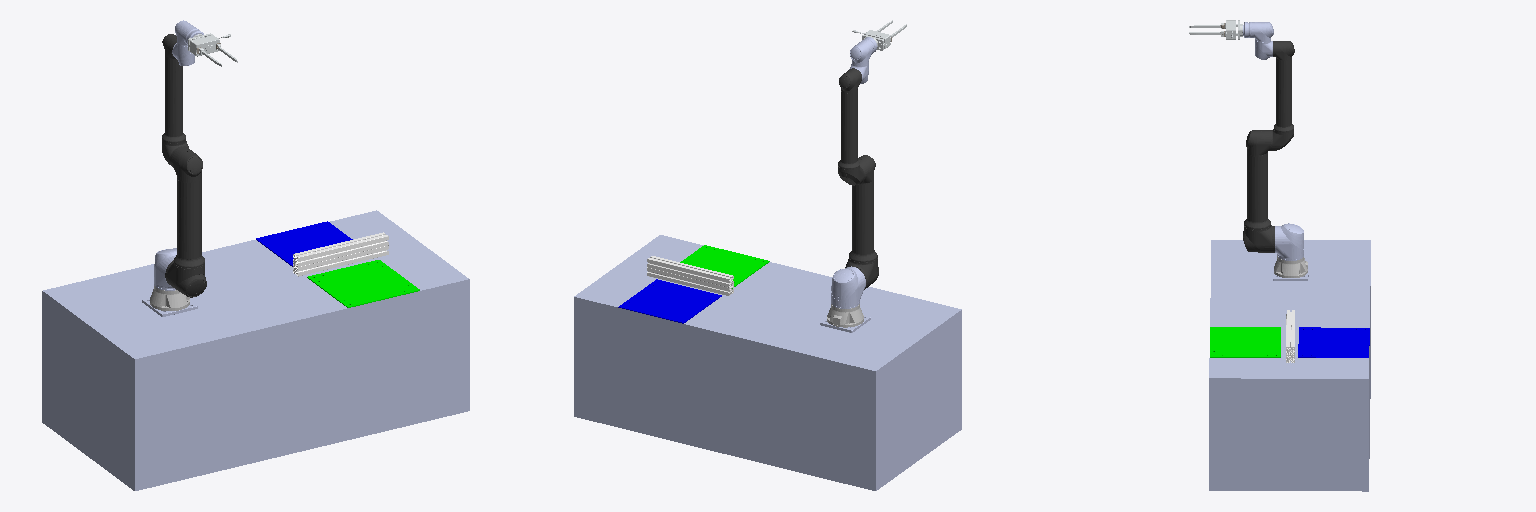
URDF robot description (keti_robot_description):
<?xml version="1.0" encoding="utf-8"?>
<!-- This URDF was automatically created by SolidWorks to URDF Exporter! Originally created by [author] ([email redacted]) 
     Commit Version: 1.6.0-4-g7f85cfe  Build Version: 1.6.7995.38578
     For more information, please see http://wiki.ros.org/sw_urdf_exporter -->
<robot
  name="keti_robot_description">
  <link
    name="base_link">
    <inertial>
      <origin
        xyz="-3.36085209448091E-05 0.000287133945830102 0.0438378188701482"
        rpy="0 0 0" />
      <mass
        value="2.2521398120105" />
      <inertia
        ixx="0.00610179258303705"
        ixy="5.05489141748032E-06"
        ixz="-2.06579698345411E-06"
        iyy="0.00603383821255677"
        iyz="-2.85749716627364E-06"
        izz="0.0086064928113372" />
    </inertial>
    <visual>
      <origin
        xyz="0 0 0"
        rpy="0 0 0" />
      <geometry>
        <mesh
          filename="package://keti_robot_description/meshes/base_link.STL" />
      </geometry>
      <material
        name="">
        <color
          rgba="0.8 0.8 0.8 1" />
      </material>
    </visual>
    <collision>
      <origin
        xyz="0 0 0"
        rpy="0 0 0" />
      <geometry>
        <mesh
          filename="package://keti_robot_description/meshes/base_link.STL" />
      </geometry>
    </collision>
  </link>
  <link
    name="link1">
    <inertial>
      <origin
        xyz="-0.000155570349547256 -0.0115300094964011 0.185903083989741"
        rpy="0 0 0" />
      <mass
        value="3.38715574374258" />
      <inertia
        ixx="0.00965712431607013"
        ixy="2.56211525076845E-06"
        ixz="-2.07308619063588E-06"
        iyy="0.00999757655610851"
        iyz="0.00227412857483655"
        izz="0.0098539484036096" />
    </inertial>
    <visual>
      <origin
        xyz="0 0 0"
        rpy="0 0 0" />
      <geometry>
        <mesh
          filename="package://keti_robot_description/meshes/link1.STL" />
      </geometry>
      <material
        name="">
        <color
          rgba="0.792156862745098 0.819607843137255 0.933333333333333 1" />
      </material>
    </visual>
    <collision>
      <origin
        xyz="0 0 0"
        rpy="0 0 0" />
      <geometry>
        <mesh
          filename="package://keti_robot_description/meshes/link1.STL" />
      </geometry>
    </collision>
  </link>
  <joint
    name="q1"
    type="revolute">
    <origin
      xyz="0 0 0"
      rpy="0 0 0" />
    <parent
      link="base_link" />
    <child
      link="link1" />
    <axis
      xyz="0 0 1" />
    <limit
      lower="-3.15"
      upper="3.15"
      effort="10"
      velocity="100" />
  </joint>
  <link
    name="link2">
    <inertial>
      <origin
        xyz="-5.04053708179734E-05 -0.255908615808748 -0.18209452458773"
        rpy="0 0 0" />
      <mass
        value="10.3635830804756" />
      <inertia
        ixx="0.120627050730748"
        ixy="2.66500240762151E-06"
        ixz="2.14328350300721E-06"
        iyy="0.0227437611612611"
        iyz="-0.00160299836352993"
        izz="0.120841706515207" />
    </inertial>
    <visual>
      <origin
        xyz="0 0 0"
        rpy="0 0 0" />
      <geometry>
        <mesh
          filename="package://keti_robot_description/meshes/link2.STL" />
      </geometry>
      <material
        name="">
        <color
          rgba="0.294117647058824 0.294117647058824 0.294117647058824 1" />
      </material>
    </visual>
    <collision>
      <origin
        xyz="0 0 0"
        rpy="0 0 0" />
      <geometry>
        <mesh
          filename="package://keti_robot_description/meshes/link2.STL" />
      </geometry>
    </collision>
  </link>
  <joint
    name="q2"
    type="revolute">
    <origin
      xyz="0 0 0.198"
      rpy="-1.5708 0 0" />
    <parent
      link="link1" />
    <child
      link="link2" />
    <axis
      xyz="0 0 1" />
    <limit
      lower="-3.15"
      upper="3.15"
      effort="10"
      velocity="100" />
  </joint>
  <link
    name="link3">
    <inertial>
      <origin
        xyz="0.266215153303307 1.24415125219574E-07 0.143135454095261"
        rpy="0 0 0" />
      <mass
        value="5.05083810344374" />
      <inertia
        ixx="0.00628903769306436"
        ixy="9.83217919871376E-09"
        ixz="-0.000370527100010162"
        iyy="0.0617567752123527"
        iyz="4.19384943060267E-10"
        izz="0.0618362132215415" />
    </inertial>
    <visual>
      <origin
        xyz="0 0 0"
        rpy="0 0 0" />
      <geometry>
        <mesh
          filename="package://keti_robot_description/meshes/link3.STL" />
      </geometry>
      <material
        name="">
        <color
          rgba="0.294117647058824 0.294117647058824 0.294117647058824 1" />
      </material>
    </visual>
    <collision>
      <origin
        xyz="0 0 0"
        rpy="0 0 0" />
      <geometry>
        <mesh
          filename="package://keti_robot_description/meshes/link3.STL" />
      </geometry>
    </collision>
  </link>
  <joint
    name="q3"
    type="revolute">
    <origin
      xyz="0 -0.6127 -0.1875"
      rpy="0 0 -1.5708" />
    <parent
      link="link2" />
    <child
      link="link3" />
    <axis
      xyz="0 0 1" />
    <limit
      lower="-3.15"
      upper="3.15"
      effort="10"
      velocity="100" />
  </joint>
  <link
    name="link4">
    <inertial>
      <origin
        xyz="0.00564731922968353 -2.03785547391727E-07 -0.11129418881876"
        rpy="0 0 0" />
      <mass
        value="0.809634503765035" />
      <inertia
        ixx="0.000806283837275996"
        ixy="-1.71867704059923E-08"
        ixz="0.000215199707058614"
        iyy="0.000838077342386081"
        iyz="-7.62900079675169E-09"
        izz="0.000881367462526004" />
    </inertial>
    <visual>
      <origin
        xyz="0 0 0"
        rpy="0 0 0" />
      <geometry>
        <mesh
          filename="package://keti_robot_description/meshes/link4.STL" />
      </geometry>
      <material
        name="">
        <color
          rgba="0.792156862745098 0.819607843137255 0.933333333333333 1" />
      </material>
    </visual>
    <collision>
      <origin
        xyz="0 0 0"
        rpy="0 0 0" />
      <geometry>
        <mesh
          filename="package://keti_robot_description/meshes/link4.STL" />
      </geometry>
    </collision>
  </link>
  <joint
    name="q4"
    type="revolute">
    <origin
      xyz="0.57015 0 0.1484"
      rpy="0 0 0" />
    <parent
      link="link3" />
    <child
      link="link4" />
    <axis
      xyz="0 0 1" />
    <limit
      lower="-3.15"
      upper="3.15"
      effort="10"
      velocity="100" />
  </joint>
  <link
    name="link5">
    <inertial>
      <origin
        xyz="4.63101048859341E-05 -0.00651524423591263 0.11138476672215"
        rpy="0 0 0" />
      <mass
        value="0.822358154530824" />
      <inertia
        ixx="0.000866973842392845"
        ixy="3.12657392663225E-07"
        ixz="-1.57214298672093E-06"
        iyy="0.000822010875326482"
        iyz="0.000222517239579132"
        izz="0.00090768237706164" />
    </inertial>
    <visual>
      <origin
        xyz="0 0 0"
        rpy="0 0 0" />
      <geometry>
        <mesh
          filename="package://keti_robot_description/meshes/link5.STL" />
      </geometry>
      <material
        name="">
        <color
          rgba="0.792156862745098 0.819607843137255 0.933333333333333 1" />
      </material>
    </visual>
    <collision>
      <origin
        xyz="0 0 0"
        rpy="0 0 0" />
      <geometry>
        <mesh
          filename="package://keti_robot_description/meshes/link5.STL" />
      </geometry>
    </collision>
  </link>
  <joint
    name="q5"
    type="revolute">
    <origin
      xyz="0 0 -0.11715"
      rpy="1.5708 0.0070497 1.5708" />
    <parent
      link="link4" />
    <child
      link="link5" />
    <axis
      xyz="0 0 1" />
    <limit
      lower="-3.15"
      upper="3.15"
      effort="10"
      velocity="100" />
  </joint>
  <link
    name="link6">
    <inertial>
      <origin
        xyz="-2.6624035920006E-07 -0.000235268346064688 -0.0906803368507646"
        rpy="0 0 0" />
      <mass
        value="0.23767801504912" />
      <inertia
        ixx="0.000145950225567596"
        ixy="-1.22777307820616E-09"
        ixz="-7.02444790603633E-10"
        iyy="0.000148314460562859"
        iyz="5.77656415906496E-07"
        izz="0.000234953702007301" />
    </inertial>
    <visual>
      <origin
        xyz="0 0 0"
        rpy="0 0 0" />
      <geometry>
        <mesh
          filename="package://keti_robot_description/meshes/link6.STL" />
      </geometry>
      <material
        name="">
        <color
          rgba="0.792156862745098 0.819607843137255 0.933333333333333 1" />
      </material>
    </visual>
    <collision>
      <origin
        xyz="0 0 0"
        rpy="0 0 0" />
      <geometry>
        <mesh
          filename="package://keti_robot_description/meshes/link6.STL" />
      </geometry>
    </collision>
  </link>
  <joint
    name="q6"
    type="revolute">
    <origin
      xyz="0 0 0.11715"
      rpy="-1.5708 0 0.0070497" />
    <parent
      link="link5" />
    <child
      link="link6" />
    <axis
      xyz="0 0 1" />
    <limit
      lower="-3.15"
      upper="3.15"
      effort="10"
      velocity="100" />
  </joint>
  <link
    name="gripper_body">
    <inertial>
      <origin
        xyz="0.000964497686721692 -0.0461987659883821 0.000126614316610318"
        rpy="0 0 0" />
      <mass
        value="0.833018335285825" />
      <inertia
        ixx="0.00035744407226028"
        ixy="-7.87184581147048E-06"
        ixz="-7.44634053674841E-07"
        iyy="0.00141010572775022"
        iyz="6.64227935729311E-08"
        izz="0.00118048682314224" />
    </inertial>
    <visual>
      <origin
        xyz="0 0 0"
        rpy="0 0 0" />
      <geometry>
        <mesh
          filename="package://keti_robot_description/meshes/gripper_body.STL" />
      </geometry>
      <material
        name="">
        <color
          rgba="0.898039215686275 0.917647058823529 0.929411764705882 1" />
      </material>
    </visual>
    <collision>
      <origin
        xyz="0 0 0"
        rpy="0 0 0" />
      <geometry>
        <mesh
          filename="package://keti_robot_description/meshes/gripper_body.STL" />
      </geometry>
    </collision>
  </link>
  <joint
    name="link6_gripper_fixed"
    type="fixed">
    <origin
      xyz="0 0 -0.1148"
      rpy="1.5708 0.0070497 0" />
    <parent
      link="link6" />
    <child
      link="gripper_body" />
    <axis
      xyz="0 0 0" />
    <limit
      lower="-3.15"
      upper="3.15"
      effort="10"
      velocity="100" />
  </joint>
  <link
    name="gripper_tool1">
    <inertial>
      <origin
        xyz="-0.000187095087317513 -0.00839540838169445 0.0503901981194651"
        rpy="0 0 0" />
      <mass
        value="0.0524980209707732" />
      <inertia
        ixx="4.33143562379135E-06"
        ixy="3.76648518766476E-08"
        ixz="9.29191075202578E-08"
        iyy="5.26806301784343E-06"
        iyz="-9.16328438600956E-07"
        izz="4.96961994940066E-06" />
    </inertial>
    <visual>
      <origin
        xyz="0 0 0"
        rpy="0 0 0" />
      <geometry>
        <mesh
          filename="package://keti_robot_description/meshes/gripper_tool1.STL" />
      </geometry>
      <material
        name="">
        <color
          rgba="0.650980392156863 0.619607843137255 0.588235294117647 1" />
      </material>
    </visual>
    <collision>
      <origin
        xyz="0 0 0"
        rpy="0 0 0" />
      <geometry>
        <mesh
          filename="package://keti_robot_description/meshes/gripper_tool1.STL" />
      </geometry>
    </collision>
  </link>
  <joint
    name="slide_finger1"
    type="prismatic">
    <origin
      xyz="0.00068029 -0.096498 0"
      rpy="-3.1345 -1.5708 3.1416" />
    <parent
      link="gripper_body" />
    <child
      link="gripper_tool1" />
    <axis
      xyz="0 0 -1" />
    <limit
      lower="0"
      upper="0.04"
      effort="10"
      velocity="100" />
  </joint>
  <link
    name="gripper_finger1">
    <inertial>
      <origin
        xyz="-1.89563253982783E-10 -0.0898683983369567 0.0468507894853555"
        rpy="0 0 0" />
      <mass
        value="0.0694658380950057" />
      <inertia
        ixx="0.000232702275402011"
        ixy="4.53198492623508E-13"
        ixz="2.61266890896669E-14"
        iyy="3.23864994331891E-06"
        iyz="-5.91510564750317E-06"
        izz="0.000233913802492912" />
    </inertial>
    <visual>
      <origin
        xyz="0 0 0"
        rpy="0 0 0" />
      <geometry>
        <mesh
          filename="package://keti_robot_description/meshes/gripper_finger1.STL" />
      </geometry>
      <material
        name="">
        <color
          rgba="0.898039215686275 0.917647058823529 0.929411764705882 1" />
      </material>
    </visual>
    <collision>
      <origin
        xyz="0 0 0"
        rpy="0 0 0" />
      <geometry>
        <mesh
          filename="package://keti_robot_description/meshes/gripper_finger1.STL" />
      </geometry>
    </collision>
  </link>
  <joint
    name="tool_finger1_fixed"
    type="fixed">
    <origin
      xyz="0 0 0"
      rpy="0 0 0" />
    <parent
      link="gripper_tool1" />
    <child
      link="gripper_finger1" />
    <axis
      xyz="0 0 0" />
  </joint>
  <link
    name="gripper_tool2">
    <inertial>
      <origin
        xyz="0.000187095087317068 -0.00839540838169439 -0.0503901981194645"
        rpy="0 0 0" />
      <mass
        value="0.0524980209707734" />
      <inertia
        ixx="4.33143562379135E-06"
        ixy="-3.76648518766326E-08"
        ixz="9.29191075202769E-08"
        iyy="5.26806301784346E-06"
        iyz="9.1632843860095E-07"
        izz="4.96961994940069E-06" />
    </inertial>
    <visual>
      <origin
        xyz="0 0 0"
        rpy="0 0 0" />
      <geometry>
        <mesh
          filename="package://keti_robot_description/meshes/gripper_tool2.STL" />
      </geometry>
      <material
        name="">
        <color
          rgba="0.650980392156863 0.619607843137255 0.588235294117647 1" />
      </material>
    </visual>
    <collision>
      <origin
        xyz="0 0 0"
        rpy="0 0 0" />
      <geometry>
        <mesh
          filename="package://keti_robot_description/meshes/gripper_tool2.STL" />
      </geometry>
    </collision>
  </link>
  <joint
    name="slide_finger2"
    type="prismatic">
    <origin
      xyz="0.000680292998159457 -0.0964976020501893 0"
      rpy="-3.13454292682163 -1.57079631189374 3.14159265358979" />
    <parent
      link="gripper_body" />
    <child
      link="gripper_tool2" />
    <axis
      xyz="0 0 1" />
    <limit
      lower="0"
      upper="0.04"
      effort="10"
      velocity="100" />
  </joint>
  <link
    name="gripper_finger2">
    <inertial>
      <origin
        xyz="1.88546733781436E-10 -0.0898683983348695 -0.0468507894819098"
        rpy="0 0 0" />
      <mass
        value="0.0694658380901624" />
      <inertia
        ixx="0.000232702275371426"
        ixy="-4.50738185052233E-13"
        ixz="2.43052739804296E-14"
        iyy="3.2386499418736E-06"
        iyz="5.91510564337428E-06"
        izz="0.000233913802462028" />
    </inertial>
    <visual>
      <origin
        xyz="0 0 0"
        rpy="0 0 0" />
      <geometry>
        <mesh
          filename="package://keti_robot_description/meshes/gripper_finger2.STL" />
      </geometry>
      <material
        name="">
        <color
          rgba="0.898039215686275 0.917647058823529 0.929411764705882 1" />
      </material>
    </visual>
    <collision>
      <origin
        xyz="0 0 0"
        rpy="0 0 0" />
      <geometry>
        <mesh
          filename="package://keti_robot_description/meshes/gripper_finger2.STL" />
      </geometry>
    </collision>
  </link>
  <joint
    name="tool_finger2_fixed"
    type="fixed">
    <origin
      xyz="0 0 0"
      rpy="0 0 0" />
    <parent
      link="gripper_tool2" />
    <child
      link="gripper_finger2" />
    <axis
      xyz="0 0 0" />
  </joint>
  <link
    name="base">
    <inertial>
      <origin
        xyz="0.475174185624575 -0.00377341181843176 -0.364821241376075"
        rpy="0 0 0" />
      <mass
        value="1166.08310054465" />
      <inertia
        ixx="126.277054980318"
        ixy="1.78873159404682"
        ixz="-6.79491049178361E-14"
        iyy="379.990896927337"
        iyz="1.04270672445908E-16"
        izz="411.085430048862" />
    </inertial>
    <visual>
      <origin
        xyz="0 0 0"
        rpy="0 0 0" />
      <geometry>
        <mesh
          filename="package://keti_robot_description/meshes/base.STL" />
      </geometry>
      <material
        name="">
        <color
          rgba="0.792156862745098 0.819607843137255 0.933333333333333 1" />
      </material>
    </visual>
    <collision>
      <origin
        xyz="0 0 0"
        rpy="0 0 0" />
      <geometry>
        <mesh
          filename="package://keti_robot_description/meshes/base.STL" />
      </geometry>
    </collision>
  </link>
  <joint
    name="base_fixed"
    type="fixed">
    <origin
      xyz="0 0 0"
      rpy="0 0 0" />
    <parent
      link="base_link" />
    <child
      link="base" />
    <axis
      xyz="0 0 0" />
    <limit
      lower="0"
      upper="0"
      effort="0"
      velocity="0" />
  </joint>
  <link
    name="plate_pick">
    <inertial>
      <origin
        xyz="0.926490060276359 -0.256961331374575 -0.0125000000002192"
        rpy="0 0 0" />
      <mass
        value="0.797947283360143" />
      <inertia
        ixx="0.010615722604423"
        ixy="1.26919416816773E-17"
        ixz="2.64712336886471E-15"
        iyy="0.010615722604423"
        iyz="-2.59446079949759E-17"
        izz="0.0212281204284986" />
    </inertial>
    <visual>
      <origin
        xyz="0 0 0"
        rpy="0 0 0" />
      <geometry>
        <mesh
          filename="package://keti_robot_description/meshes/plate_pick.STL" />
      </geometry>
      <material
        name="">
        <color
          rgba="0 1 0 1" />
      </material>
    </visual>
    <collision>
      <origin
        xyz="0 0 0"
        rpy="0 0 0" />
      <geometry>
        <mesh
          filename="package://keti_robot_description/meshes/plate_pick.STL" />
      </geometry>
    </collision>
  </link>
  <joint
    name="base_plate_pick_fixed"
    type="fixed">
    <origin
      xyz="0 0 0"
      rpy="0 0 0" />
    <parent
      link="base_link" />
    <child
      link="plate_pick" />
    <axis
      xyz="0 0 0" />
  </joint>
  <link
    name="plate_place">
    <inertial>
      <origin
        xyz="0.930014894853705 0.243026244012161 -0.0125000000004366"
        rpy="0 0 0" />
      <mass
        value="0.797947283360145" />
      <inertia
        ixx="0.010615722604423"
        ixy="2.16840434498881E-18"
        ixz="2.64695266744577E-15"
        iyy="0.010615722604423"
        iyz="-1.75278270782062E-16"
        izz="0.0212281204284986" />
    </inertial>
    <visual>
      <origin
        xyz="0 0 0"
        rpy="0 0 0" />
      <geometry>
        <mesh
          filename="package://keti_robot_description/meshes/plate_place.STL" />
      </geometry>
      <material
        name="">
        <color
          rgba="0 0 1 1" />
      </material>
    </visual>
    <collision>
      <origin
        xyz="0 0 0"
        rpy="0 0 0" />
      <geometry>
        <mesh
          filename="package://keti_robot_description/meshes/plate_place.STL" />
      </geometry>
    </collision>
  </link>
  <joint
    name="base_plate_place_fixed"
    type="fixed">
    <origin
      xyz="0 0 0"
      rpy="0 0 0" />
    <parent
      link="base_link" />
    <child
      link="plate_place" />
    <axis
      xyz="0 0 0" />
  </joint>
  <link
    name="obstacle">
    <inertial>
      <origin
        xyz="0.947644597488781 -0.00105915977649695 0.0349999999997669"
        rpy="0 0 0" />
      <mass
        value="2.99739905159225" />
      <inertia
        ixx="0.00140388130169823"
        ixy="0.000435273876309154"
        ixz="1.5429290968821E-14"
        iyy="0.0631431513060792"
        iyz="-1.09490622164355E-16"
        izz="0.0631462199191515" />
    </inertial>
    <visual>
      <origin
        xyz="0 0 0"
        rpy="0 0 0" />
      <geometry>
        <mesh
          filename="package://keti_robot_description/meshes/obstacle.STL" />
      </geometry>
      <material
        name="">
        <color
          rgba="1 1 1 1" />
      </material>
    </visual>
    <collision>
      <origin
        xyz="0 0 0"
        rpy="0 0 0" />
      <geometry>
        <mesh
          filename="package://keti_robot_description/meshes/obstacle.STL" />
      </geometry>
    </collision>
  </link>
  <joint
    name="base_obstacle_fixed"
    type="fixed">
    <origin
      xyz="0 0 0"
      rpy="0 0 0" />
    <parent
      link="base_link" />
    <child
      link="obstacle" />
    <axis
      xyz="0 0 0" />
  </joint>
</robot>

--- Facts derived from the render (not from the file) ---
3 views of the same robot in one strip: view 1: azimuth 30°, elevation 25°; view 2: azimuth 150°, elevation 25°; view 3: azimuth 270°, elevation 25° (orthographic).
Model keti_robot_description with 16 links and 15 joints (6 revolute, 2 prismatic, 7 fixed), rooted at base_link, posed all joints at 0.
Links seen in each view (by area): view 1: base, link2, plate_pick, obstacle, link3, plate_place, base_link, link1; view 2: base, link2, plate_place, link3, obstacle, plate_pick, link1, base_link; view 3: base, link2, plate_pick, plate_place, link3, link1, base_link.
Link boxes in pixels (x1,y1,x2,y2): base: (42, 210, 469, 490); link2: (165, 147, 206, 297); plate_pick: (307, 260, 419, 307); obstacle: (293, 232, 388, 276); link3: (162, 34, 188, 167); plate_place: (256, 221, 352, 266); base_link: (150, 286, 189, 310); link1: (154, 248, 176, 290); base: (574, 235, 961, 490); link2: (845, 155, 878, 289); plate_place: (618, 279, 721, 323); link3: (838, 68, 865, 185); obstacle: (647, 256, 733, 295); plate_pick: (680, 245, 769, 288); link1: (831, 266, 865, 308); base_link: (827, 304, 863, 327); base: (1209, 240, 1370, 491); link2: (1243, 130, 1274, 252); plate_pick: (1210, 327, 1280, 357); plate_place: (1298, 327, 1369, 357); link3: (1271, 41, 1294, 150); link1: (1275, 223, 1303, 260); base_link: (1274, 256, 1307, 277).
Bounding box of the posed robot: 1.86 × 1.03 × 2.26 m (x, y, z).
Meshes: 16 distinct files referenced, 16 mesh visuals loaded (16 binary STL).